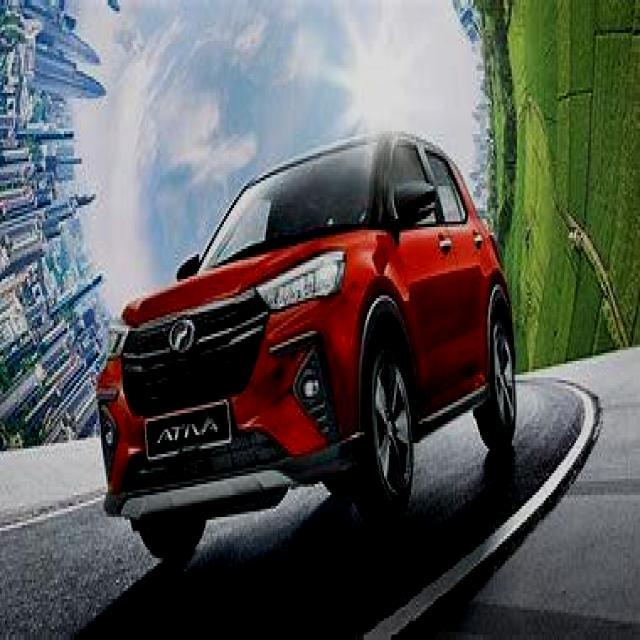PeroduaAtiva: (93, 128, 519, 562)
